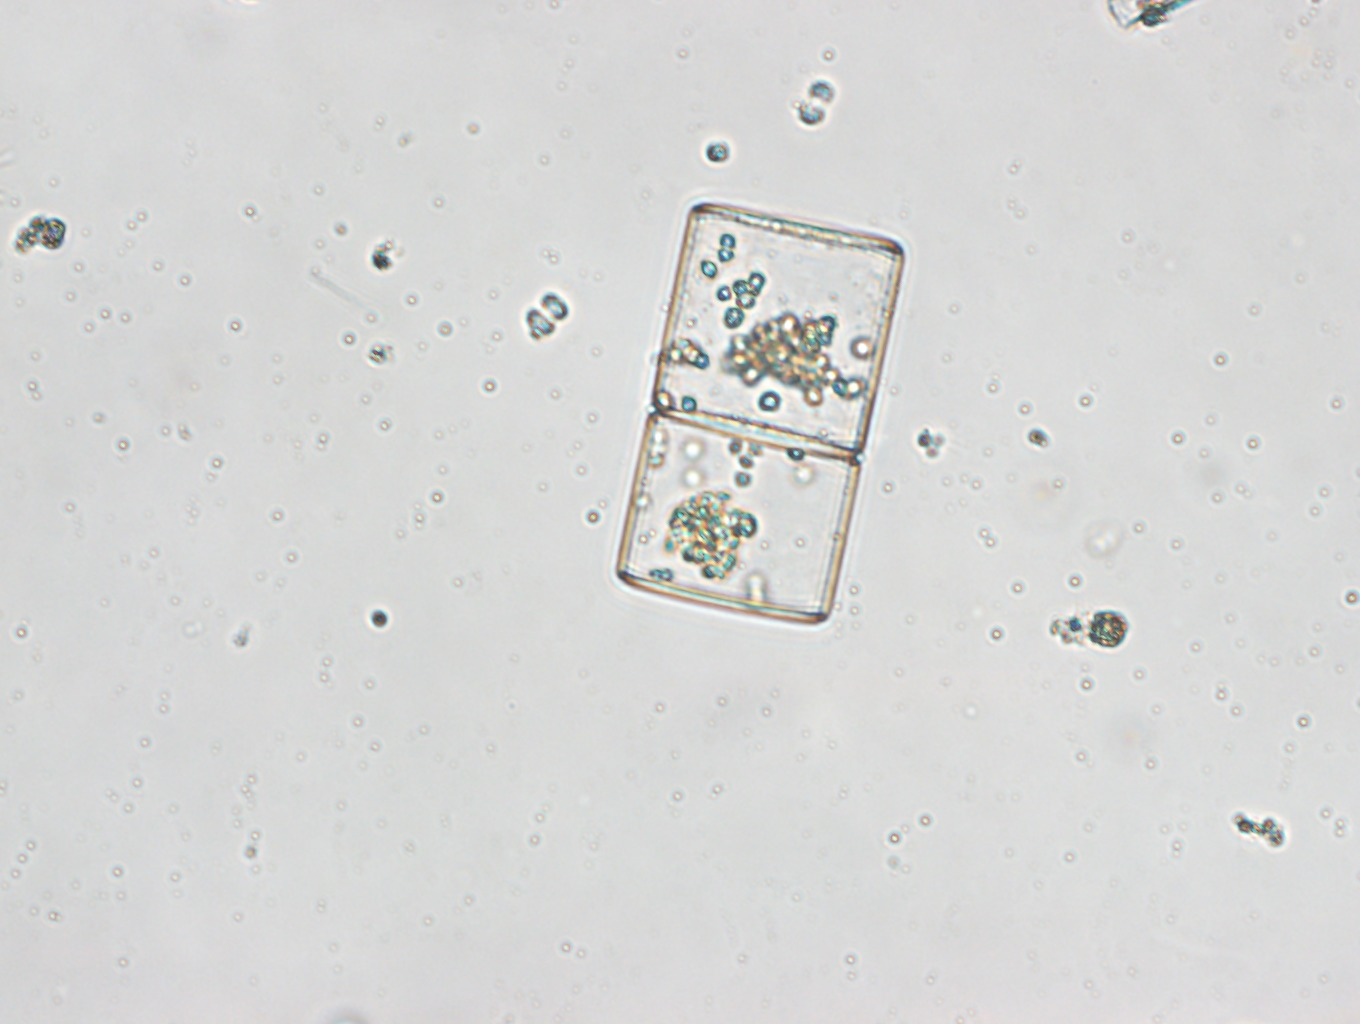guinardia flaccida: (614, 200, 907, 626)
